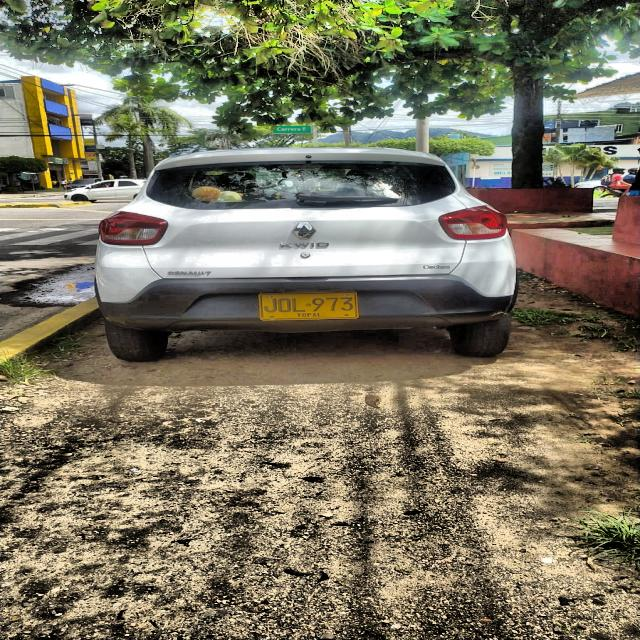plate: (260, 292, 357, 320)
